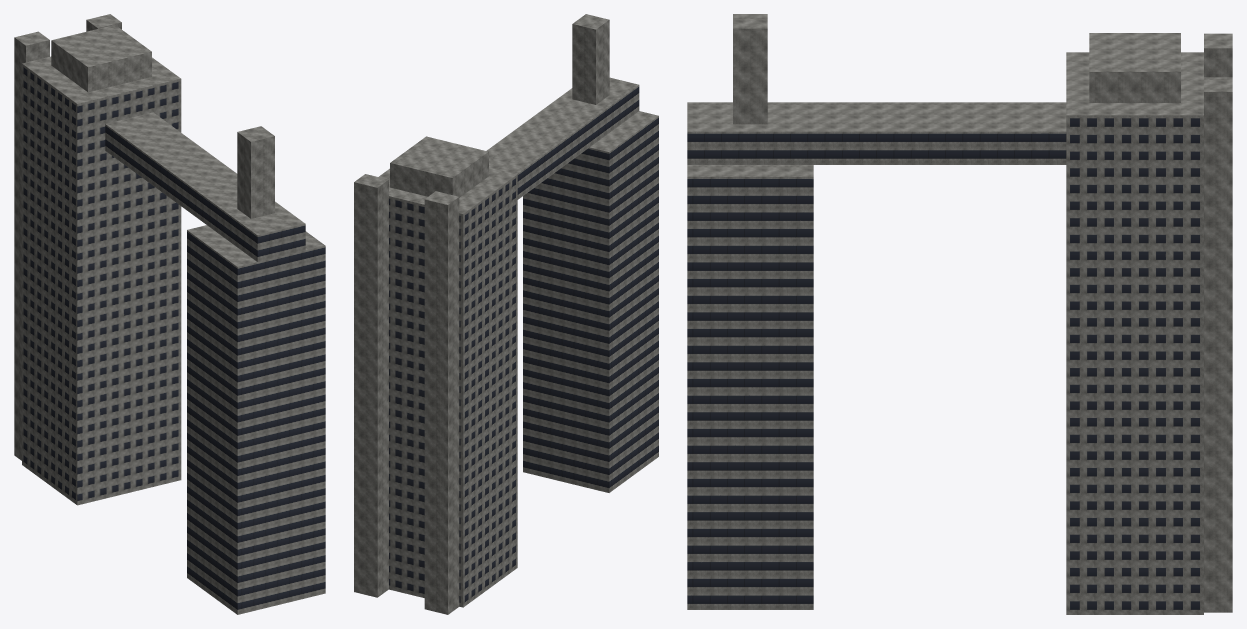
Rendered from genex.obj.
The picture shows the model from 3 angles, left to right: view 1: azimuth 30°, elevation 25°; view 2: azimuth 150°, elevation 25°; view 3: azimuth 270°, elevation 25°; orthographic projection. The views are drawn at different scales.
Visible parts, largest first — view 1: ResidentialTower_FacadeGrid, OfficeTower_FacadeRibbon, Bridge_Concrete, Bridge_FacadeRibbon, ResidentialTop_Concrete, ServiceShafts_Concrete, RestaurantShaft_Concrete, ResidentialTower_Concrete, OfficeTower_Concrete; view 2: OfficeTower_FacadeRibbon, ResidentialTower_FacadeGrid, ServiceShafts_Concrete, Bridge_Concrete, ResidentialTop_Concrete, Bridge_FacadeRibbon, RestaurantShaft_Concrete, ResidentialTower_Concrete, OfficeTower_Concrete; view 3: ResidentialTower_FacadeGrid, OfficeTower_FacadeRibbon, ServiceShafts_Concrete, Bridge_FacadeRibbon, Bridge_Concrete, ResidentialTop_Concrete, ResidentialTower_Concrete, RestaurantShaft_Concrete, OfficeTower_Concrete.
Boxes of the visible parts, x1,y1,x2,y2 form: ResidentialTower_FacadeGrid: (22, 64, 181, 505); OfficeTower_FacadeRibbon: (187, 230, 325, 614); Bridge_Concrete: (106, 112, 305, 235); Bridge_FacadeRibbon: (105, 124, 305, 261); ResidentialTop_Concrete: (51, 25, 151, 92); ServiceShafts_Concrete: (14, 14, 121, 460); RestaurantShaft_Concrete: (237, 126, 274, 218); ResidentialTower_Concrete: (22, 56, 180, 103); OfficeTower_Concrete: (187, 225, 324, 266); OfficeTower_FacadeRibbon: (523, 116, 658, 492); ResidentialTower_FacadeGrid: (389, 174, 517, 607); ServiceShafts_Concrete: (354, 174, 459, 614); Bridge_Concrete: (486, 77, 638, 174); ResidentialTop_Concrete: (390, 136, 488, 197); Bridge_FacadeRibbon: (517, 85, 639, 199); RestaurantShaft_Concrete: (572, 14, 609, 104); ResidentialTower_Concrete: (379, 167, 517, 213); OfficeTower_Concrete: (590, 111, 658, 151); ResidentialTower_FacadeGrid: (1066, 115, 1203, 614); OfficeTower_FacadeRibbon: (687, 177, 813, 609); ServiceShafts_Concrete: (1204, 33, 1232, 612); Bridge_FacadeRibbon: (687, 131, 1066, 164); Bridge_Concrete: (687, 102, 1066, 131); ResidentialTop_Concrete: (1089, 33, 1180, 102); ResidentialTower_Concrete: (1066, 52, 1203, 115); RestaurantShaft_Concrete: (733, 14, 767, 124); OfficeTower_Concrete: (687, 165, 813, 176).
Size of the model in its own units: 26 by 108 by 95.
Materials: 3 (3 with a texture image).
